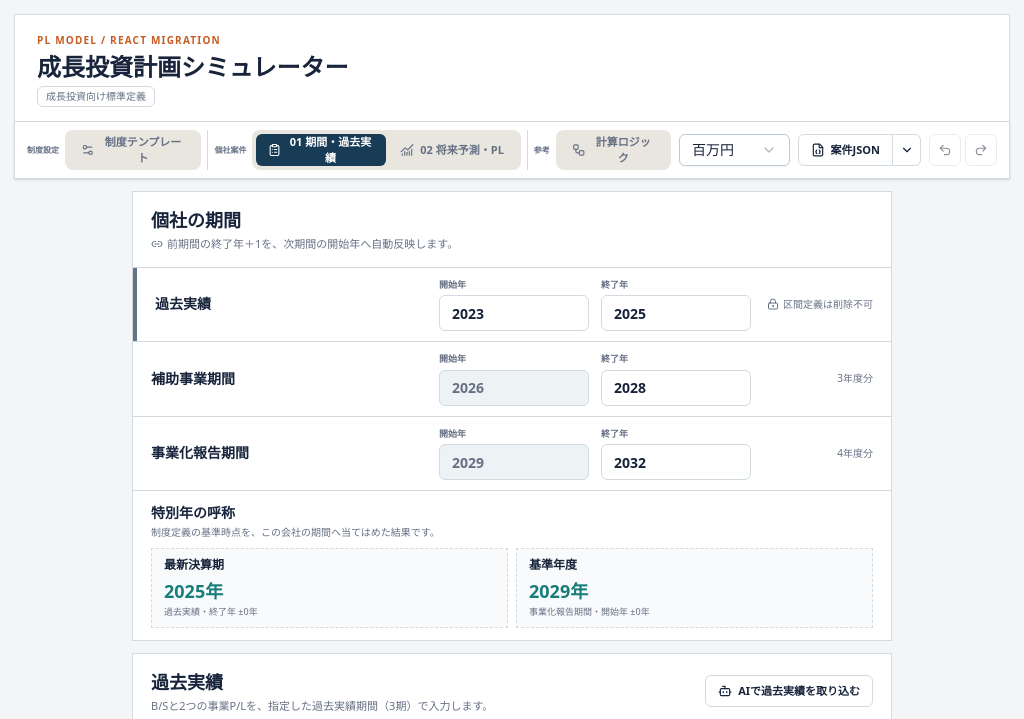
Test: ロジックマップ画面 › 編集中の不完全な共通式でも画面を壊さず検証エラーを表示する
Click the button with aria-label "01 制度定義".
click(133, 150)  # box [69,134,197,166]
(page scrolled)
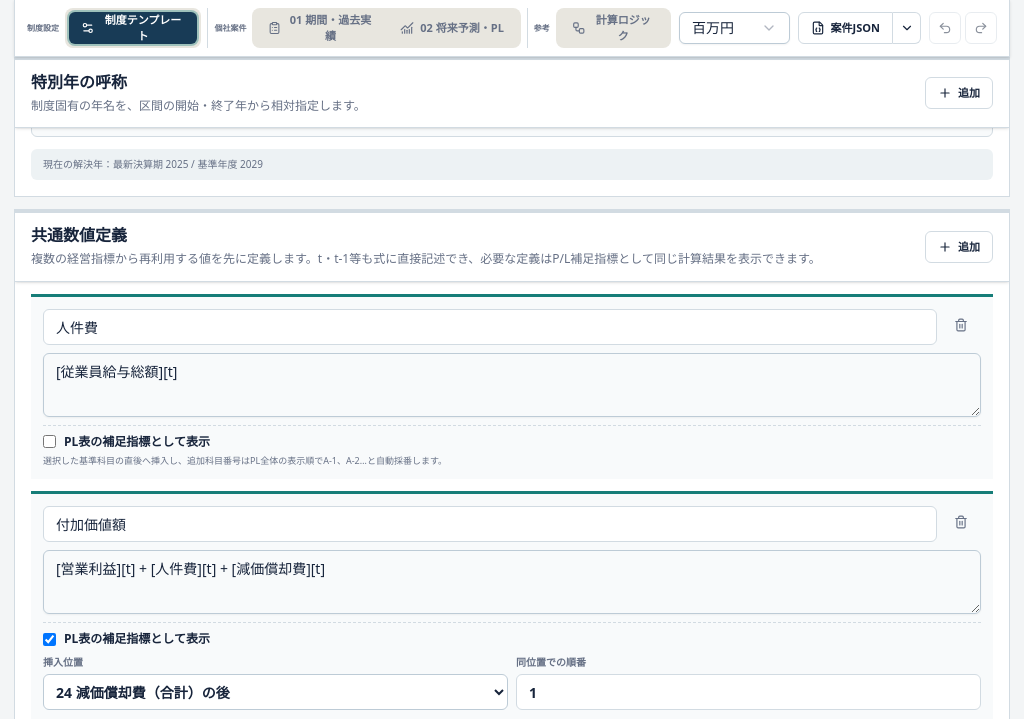
Replace the text in the text box named "人件費 計算式" with "[未定義][t]" at (512, 384), box [43,352,981,416]
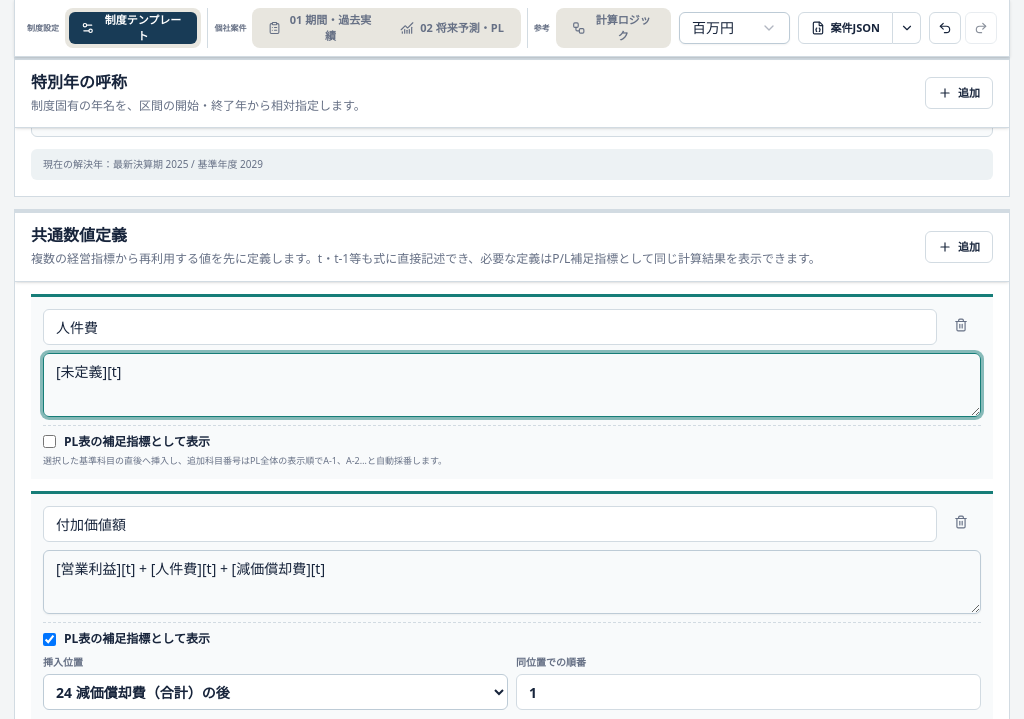
Click the button with aria-label "04 ロジックマップ".
click(613, 28)  # box [560,12,667,44]
(page scrolled)
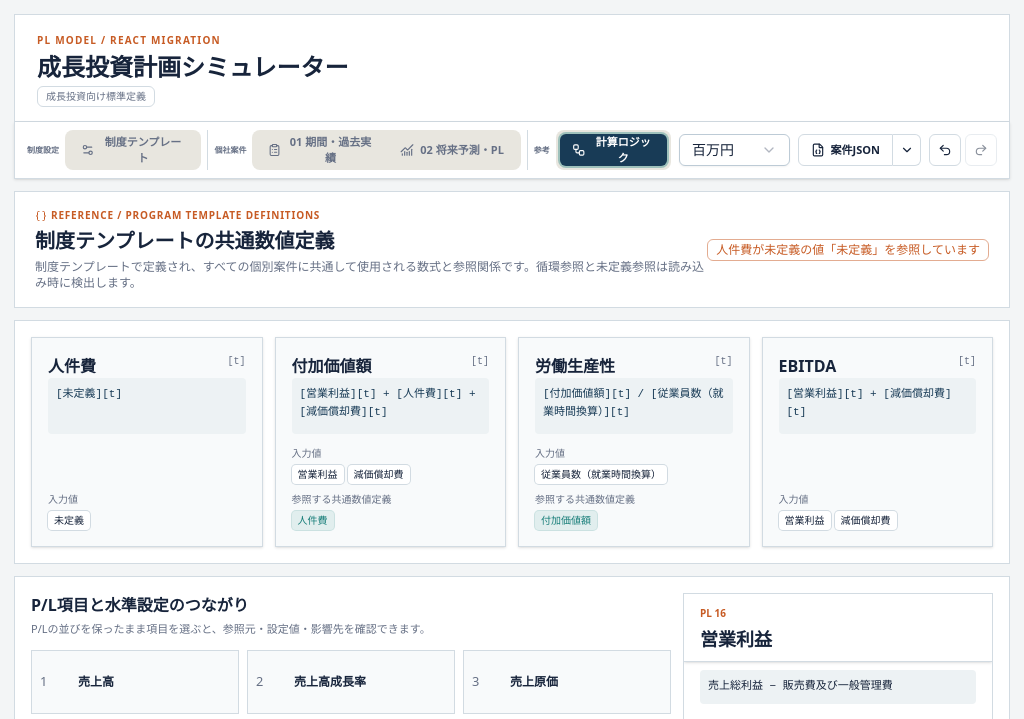
Check: the message shows "未定義", box [707,238,989,260]
Check: the heading "制度テンプレートの共通数値定義" is shown, box [35,227,334,254]
